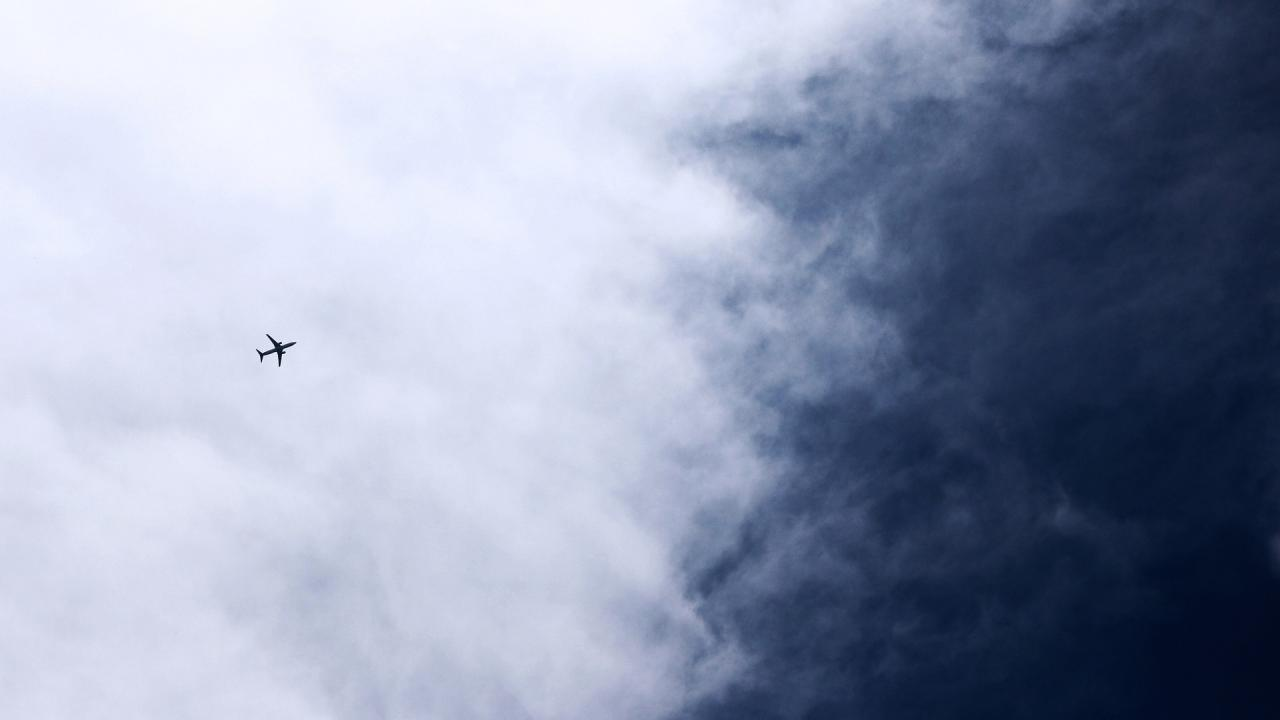Airplane: (245, 325, 306, 372)
